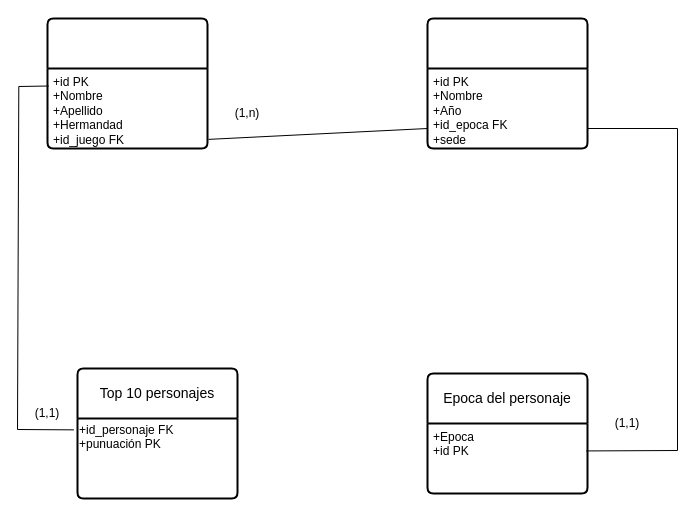
Some shapes in this 696 by 516 pixel diagram are drawn without their labels. The box of each missing label's shape, as (x1, y1, x2, y2) in pixels:
Juego al que pertenece: (426, 17, 588, 149)
Personajes: (46, 17, 208, 149)
